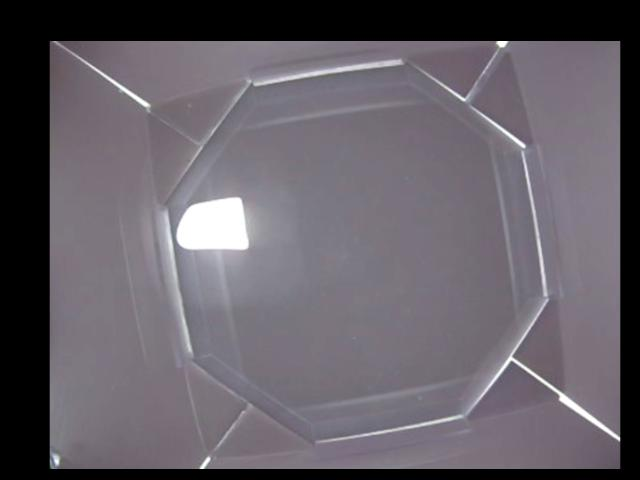Pebble: (178, 195, 249, 251)
